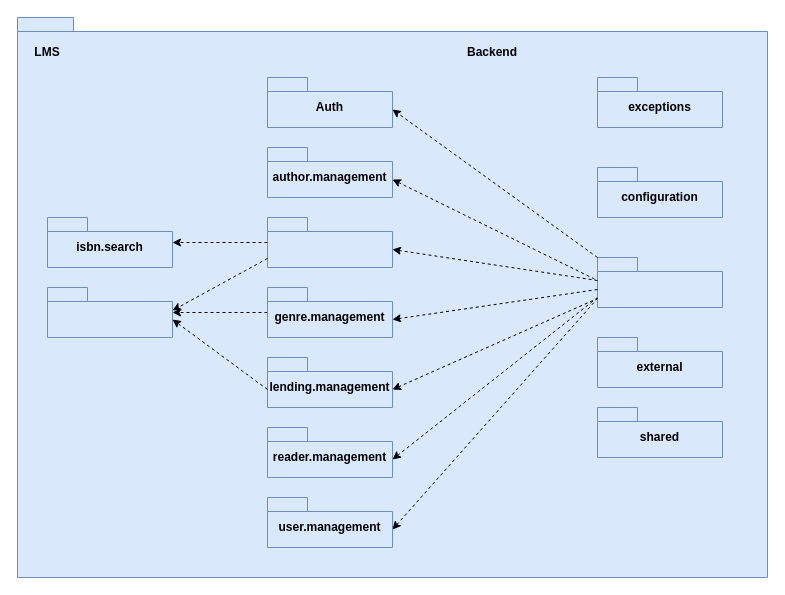
The diagram is 785 pixels wide and 595 high, and some of its shapes have lost their labels. Each missing label, with the centre of its shape:
book.management: (329,242)
bootstrapper: (659,282)
custom.idgenerator: (109,312)
